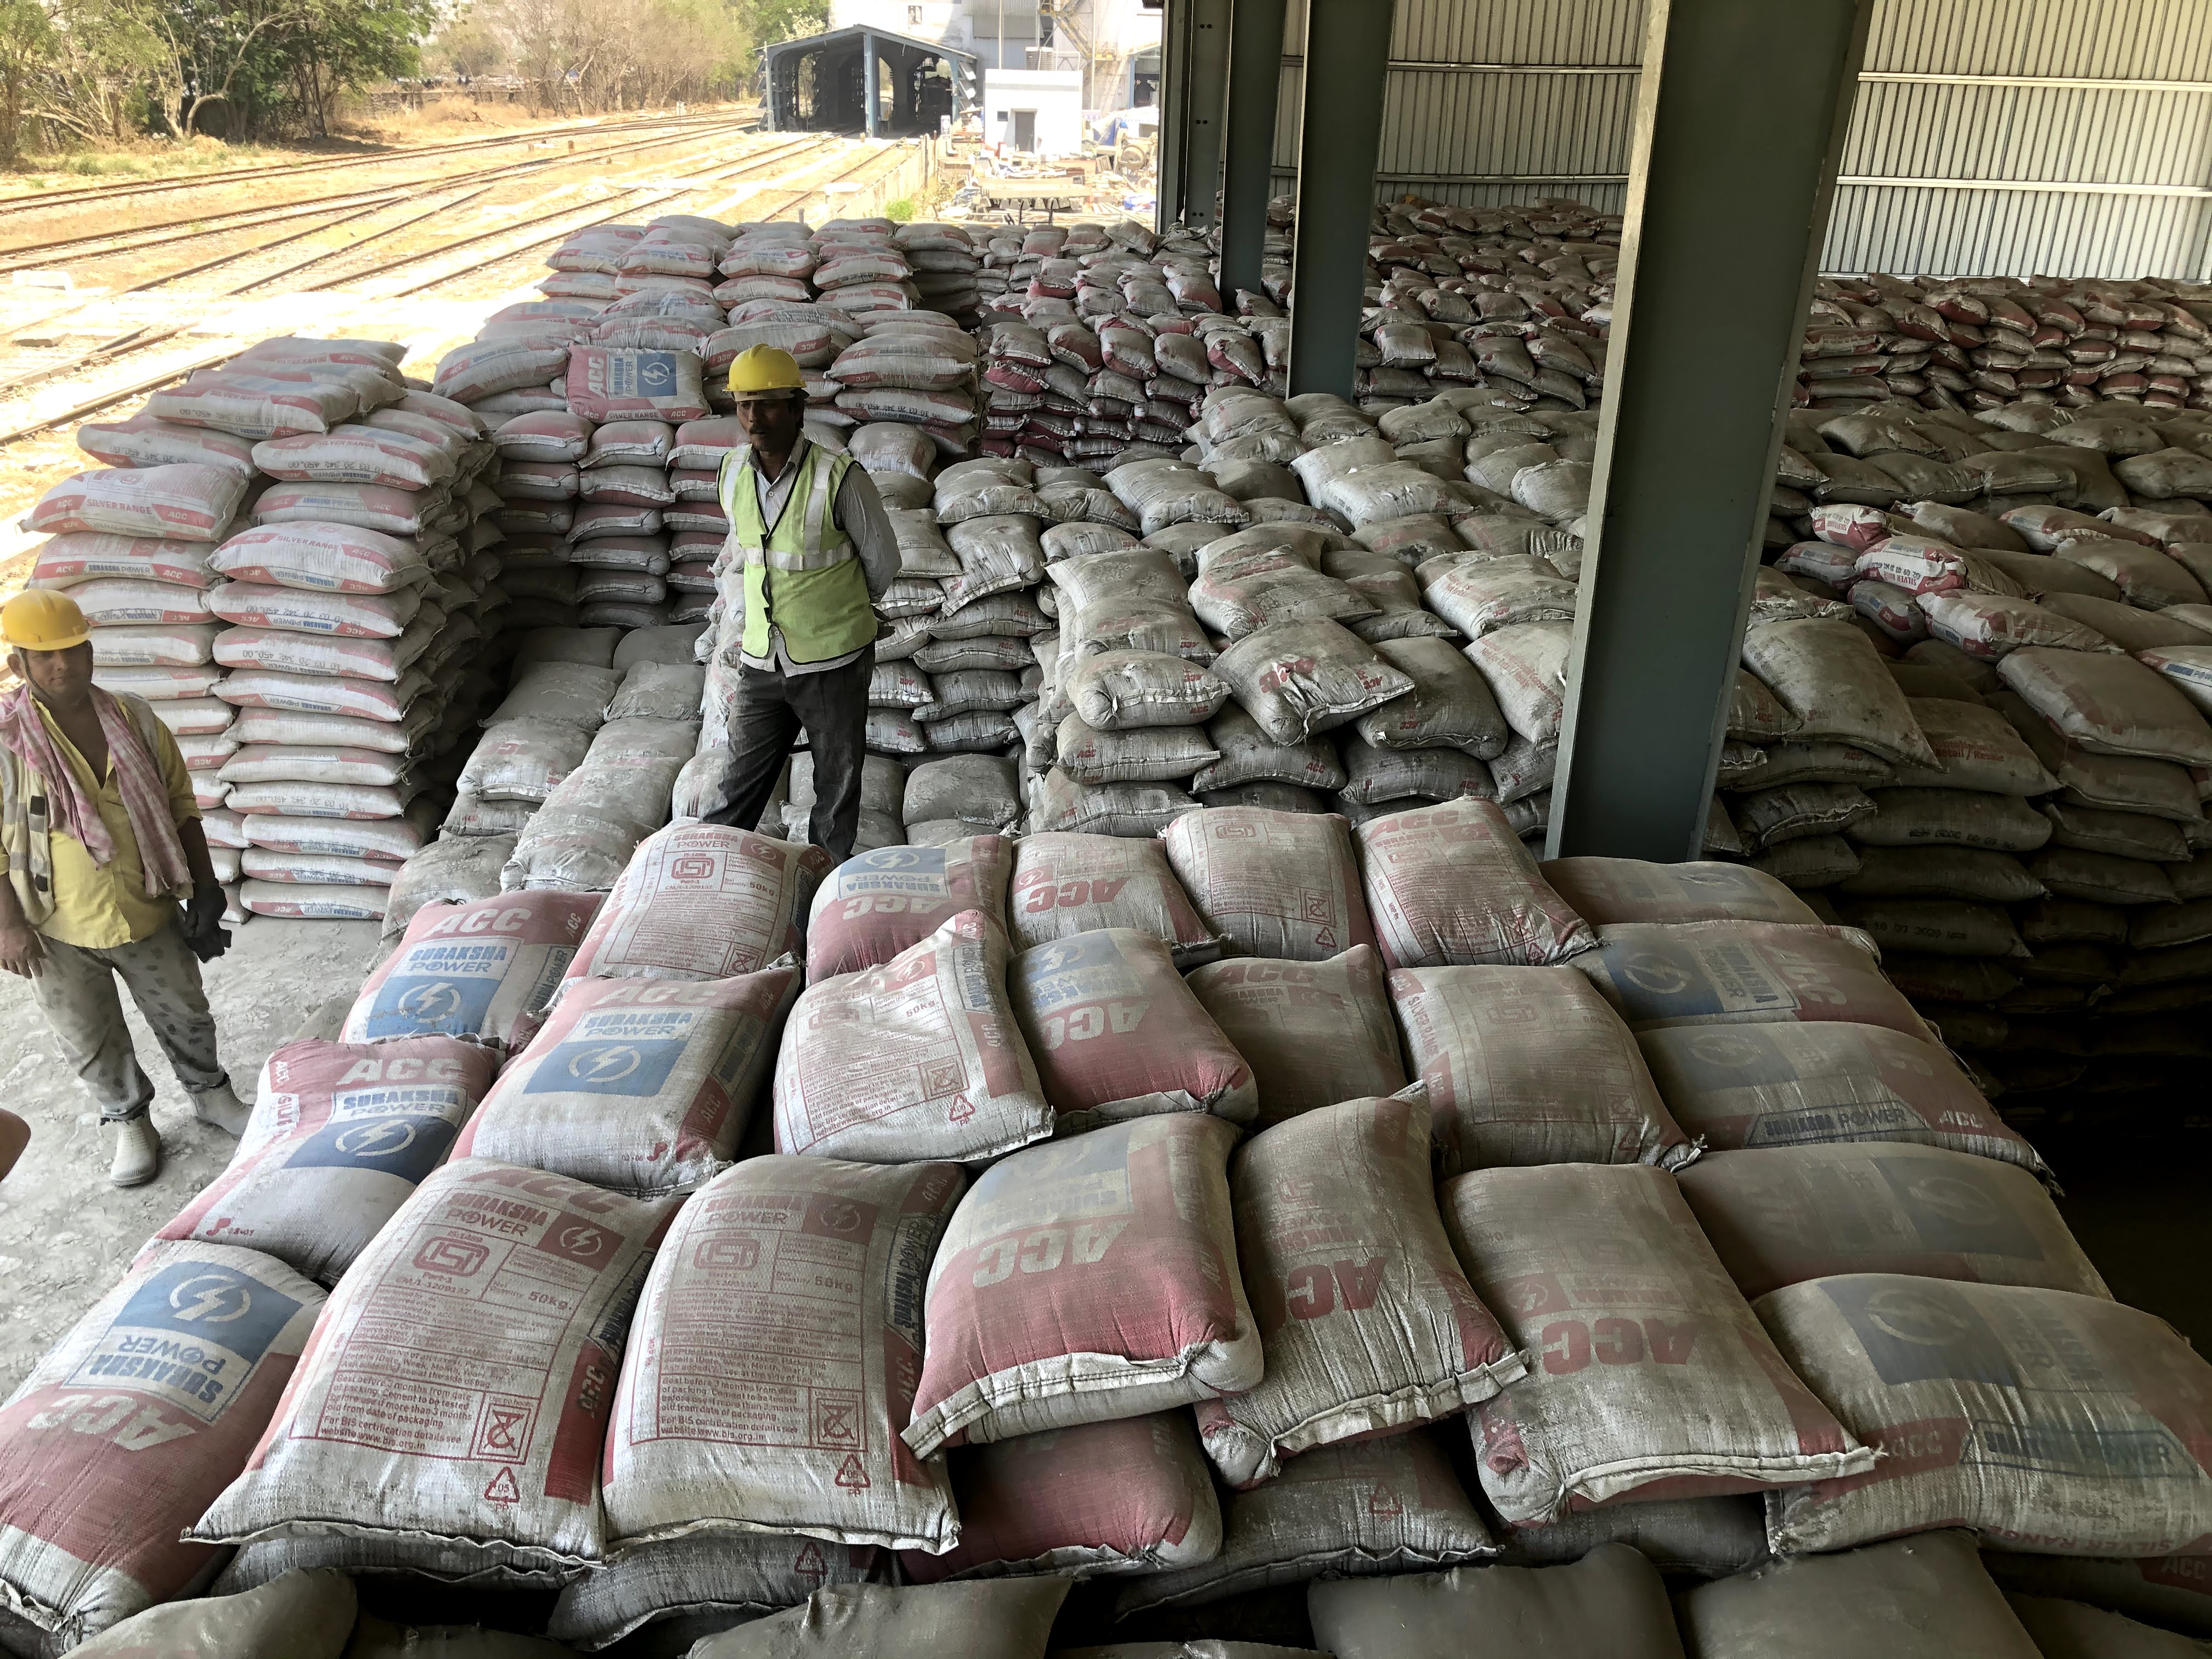cement bag: (287, 1171, 637, 1574), (1449, 1180, 1818, 1486), (927, 1091, 1170, 1541), (637, 1171, 927, 1541), (1785, 1281, 2107, 1539), (1200, 1114, 1477, 1359), (12, 1253, 317, 1476), (1710, 1154, 2107, 1281), (1386, 965, 1672, 1140), (540, 979, 772, 1173), (991, 934, 1195, 1115), (772, 990, 1042, 1114), (770, 833, 998, 971), (1540, 833, 1848, 934), (1186, 967, 1404, 1108), (273, 1047, 423, 1248), (1348, 793, 1540, 934), (408, 875, 554, 1058), (1686, 1009, 1916, 1124), (1190, 793, 1348, 943), (608, 836, 770, 971), (1620, 938, 1916, 1009), (998, 833, 1190, 943)
